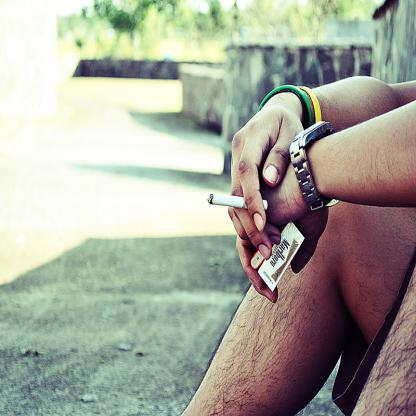smoking: (207, 194, 267, 210)
